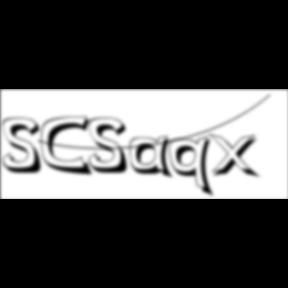C: (42, 115, 96, 178)
S: (2, 117, 48, 176), (89, 117, 135, 176)
a: (130, 135, 178, 182)
q: (168, 135, 217, 200)
x: (208, 132, 264, 181)
